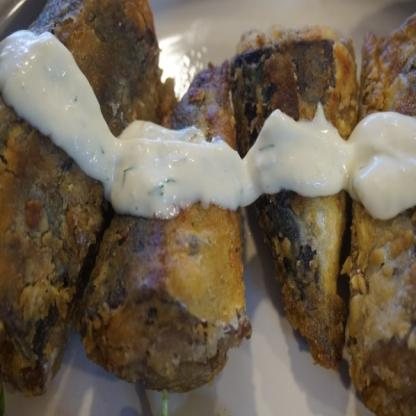Peixe: (0, 0, 416, 410)
